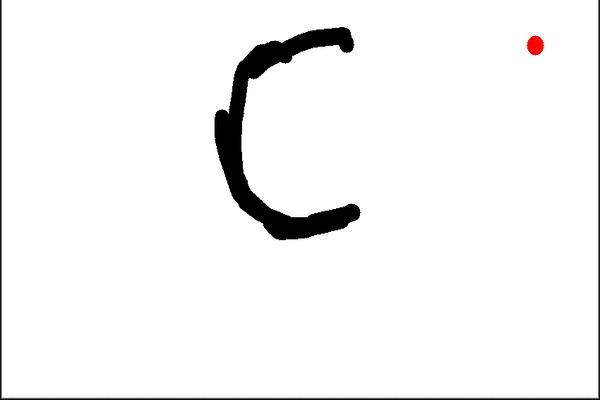C: (211, 20, 369, 243)
